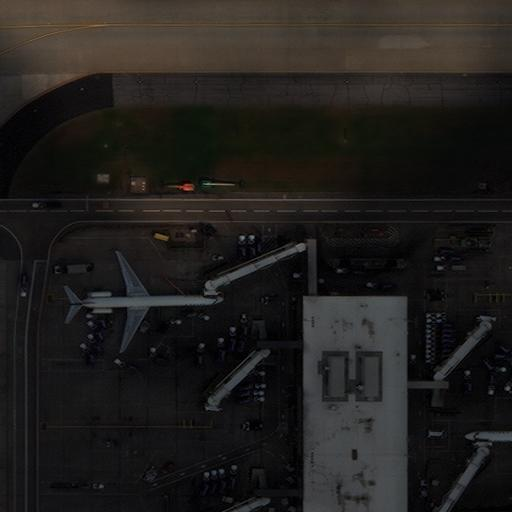Medium Civil Transport: (67, 251, 226, 352), (460, 412, 511, 458)
